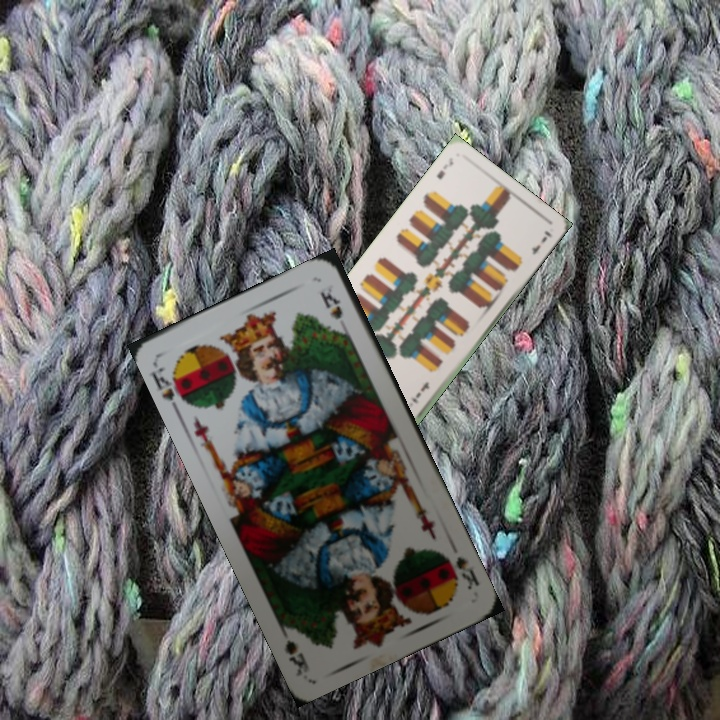E7: (432, 153, 456, 182), (408, 378, 432, 406)
SK: (148, 362, 193, 415), (452, 552, 483, 593)
